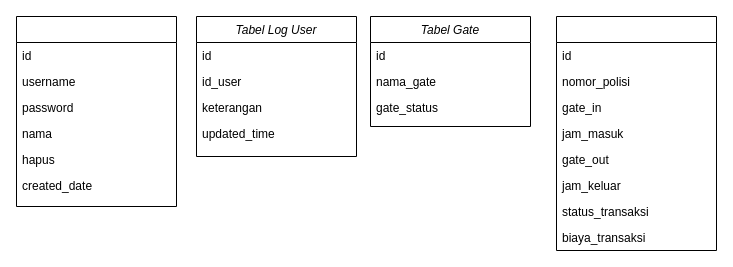
The diagram is 733 pixels wide and 267 high, and some of its shapes have lost their labels. Here are the shapes that lost their labels. From the top down, the box of each, then its label:
(16, 16, 176, 206): Tabel User
(556, 16, 716, 250): Tabel Transaksi
